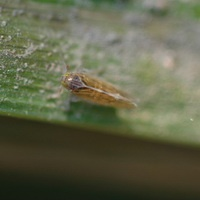insect: (62, 73, 135, 107)
